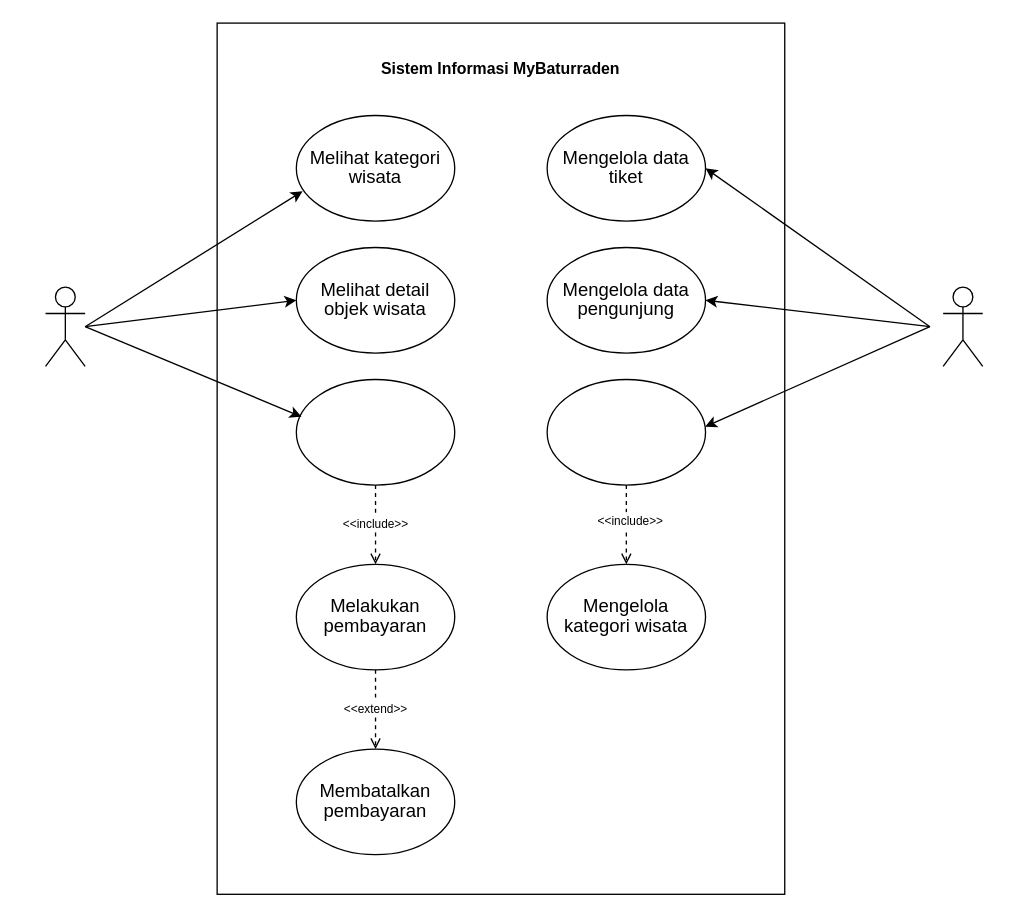
The diagram is 1020 pixels wide and 917 high, and some of its shapes have lost their labels. The shapes that lost their labels are listed below. From the top down, each one's centre as x and y in pixels, then its label:
point 64,326: Pengunjung
point 962,326: Pengelola
point 375,431: Membeli tiket
point 626,431: Mengelola objek wisata
